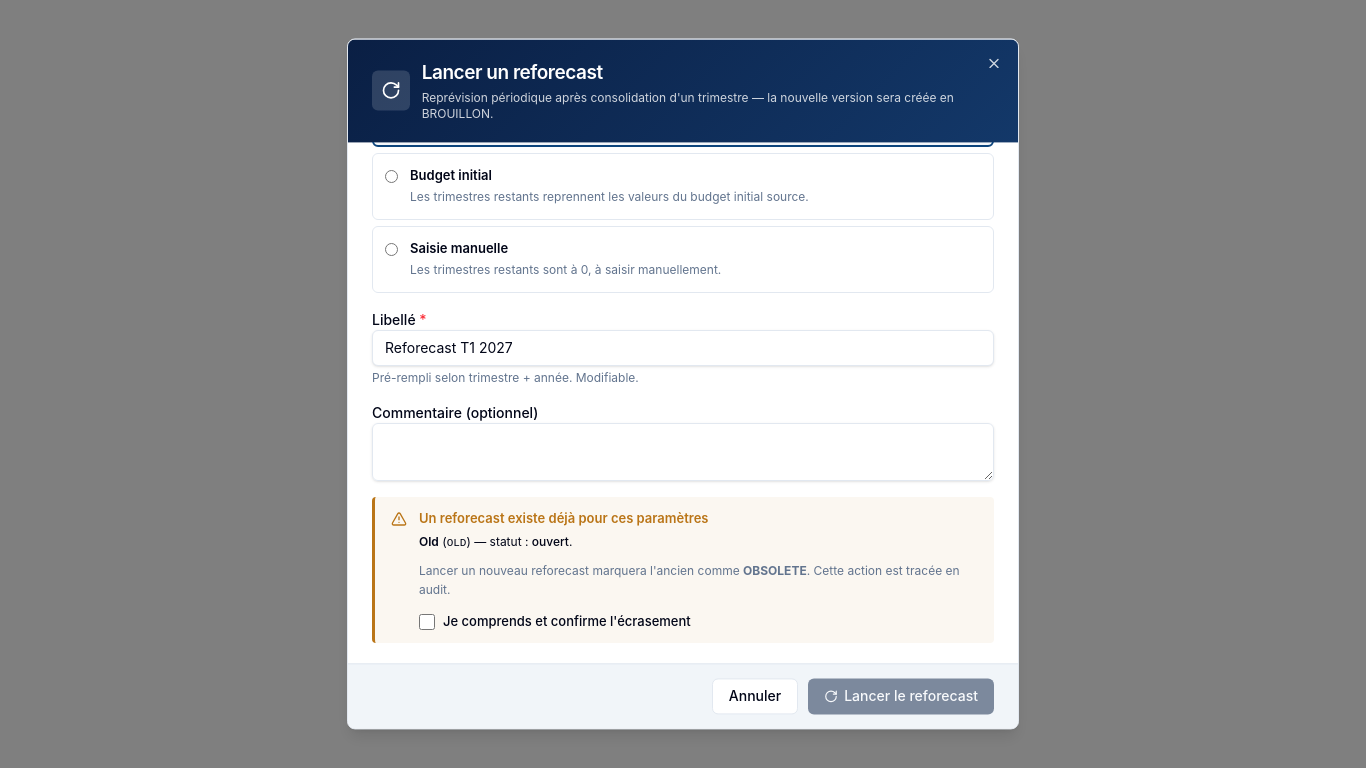
LancerReforecastDialog › active le bouton après cochage de la confirmation d'écrasement
(page scrolled)
Click the checkbox with test id "rf-l-confirm-ecrasement": click(427, 622) [419, 614, 435, 630]
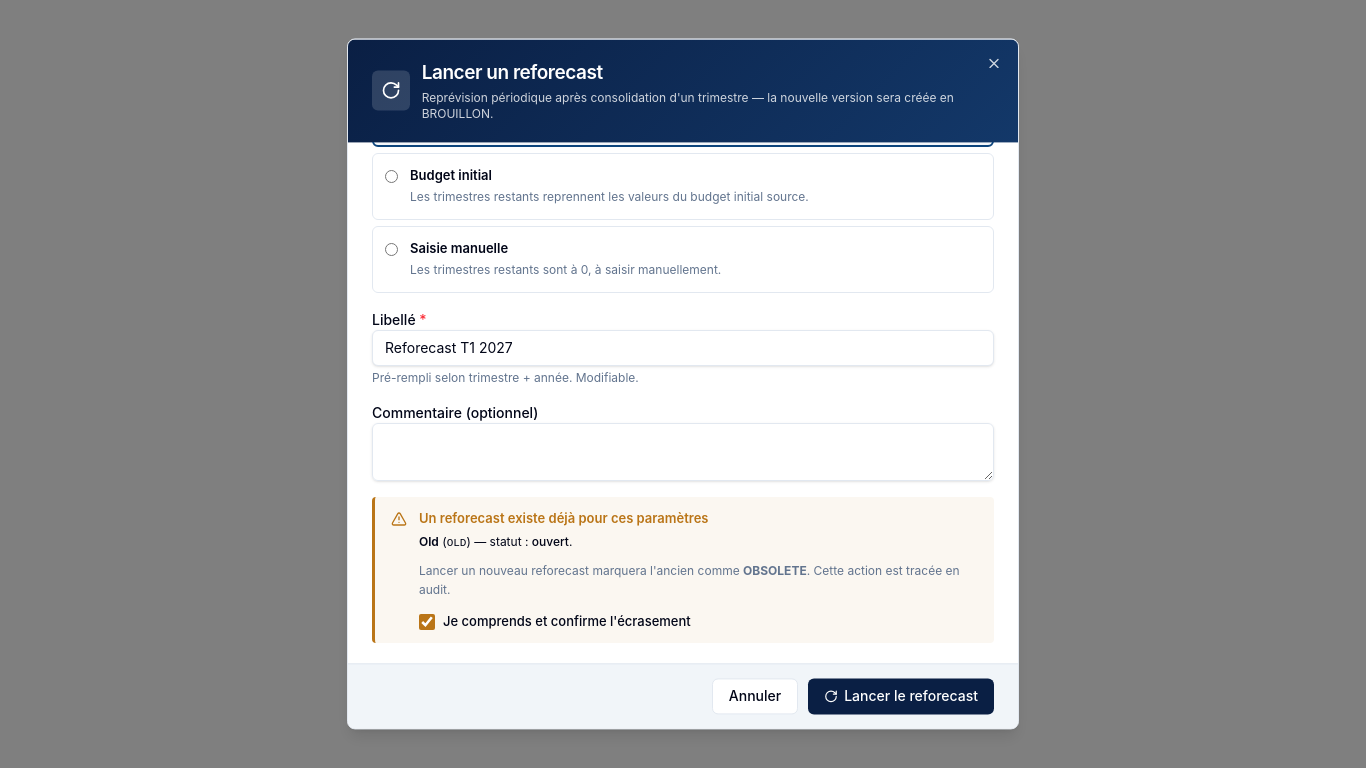
Expected: the button with test id "rf-l-submit" is enabled, [808, 679, 994, 715]
